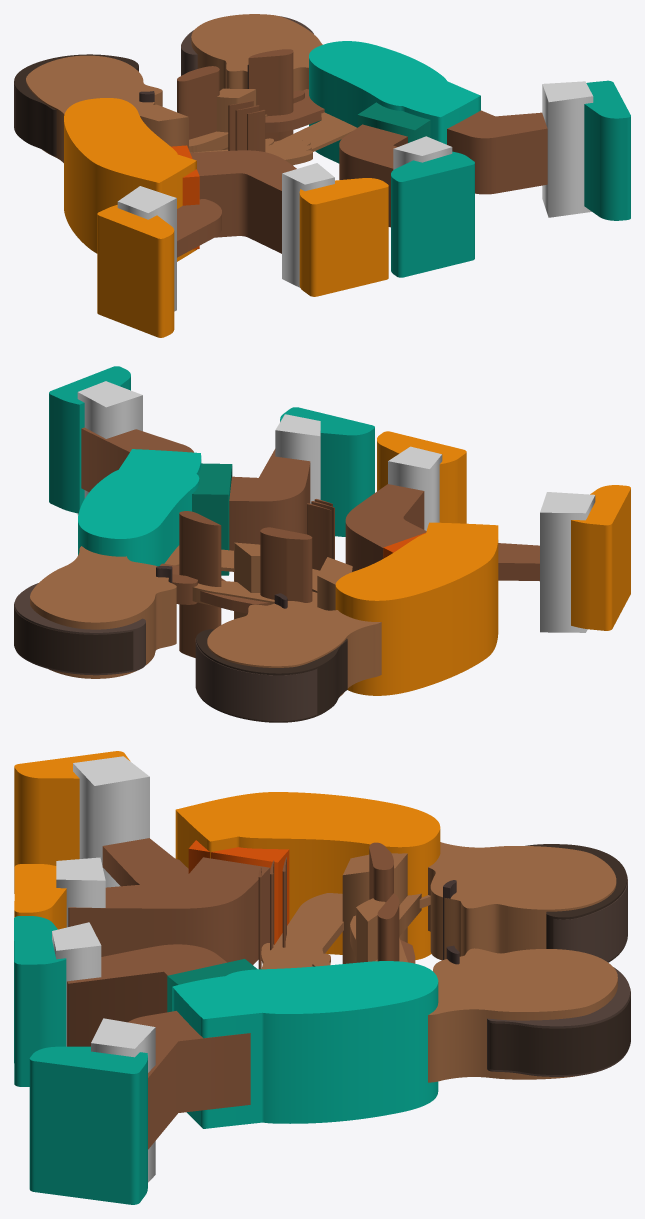
Rendered from emoji_u1f93c_1f3fe_200d_2642.glb.
3 renders of one model, top to bottom at view 1: azimuth 30°, elevation 25°; view 2: azimuth 150°, elevation 25°; view 3: azimuth 270°, elevation 25°, orthographic. The views are drawn at different scales.
Visible parts, largest first — view 1: emoji_u1f93c_1f3fe_200d_2642; view 2: emoji_u1f93c_1f3fe_200d_2642; view 3: emoji_u1f93c_1f3fe_200d_2642.
Part boxes in pixels (bbox=[...]): emoji_u1f93c_1f3fe_200d_2642: bbox=[14, 14, 630, 337]; emoji_u1f93c_1f3fe_200d_2642: bbox=[14, 366, 630, 722]; emoji_u1f93c_1f3fe_200d_2642: bbox=[14, 751, 630, 1204].
Size of the model in its own units: 0.033 by 0.008 by 0.0265.
